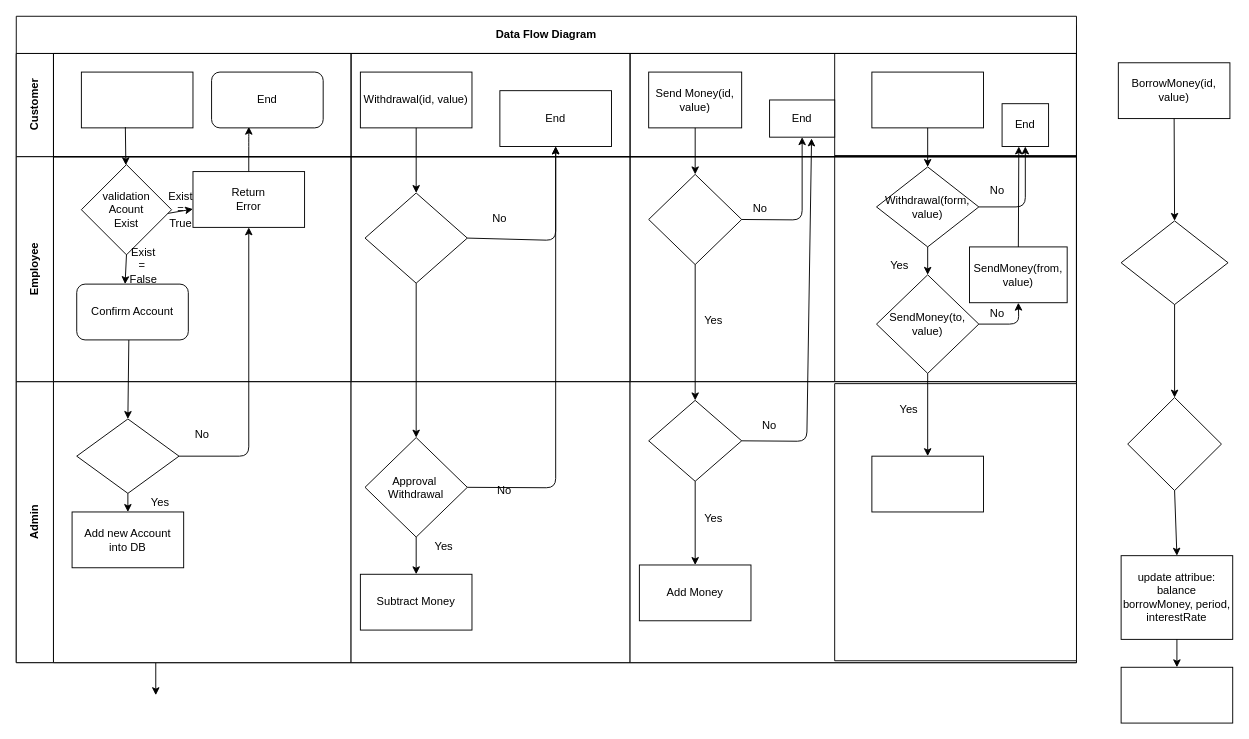
Some shapes in this 1249 by 739 pixel diagram are drawn without their labels. The centre of each missing label's shape, as x and y in pixels:
"Approval Borrow Money" belongs at [1174,444].
"Approval New Account" belongs at [127,455].
"Approval Sendmoney" belongs at [695,440].
"Create new Account" belongs at [136,99].
"Request Borrow Money" belongs at [1174,262].
"Request SendMoney" belongs at [695,219].
"Request Withdrawal" belongs at [415,237].
"Return Info Customer(id)" belongs at [1176,694].
"Return success" belongs at [927,483].
"Transfer(form, to, value)" belongs at [927,99].
